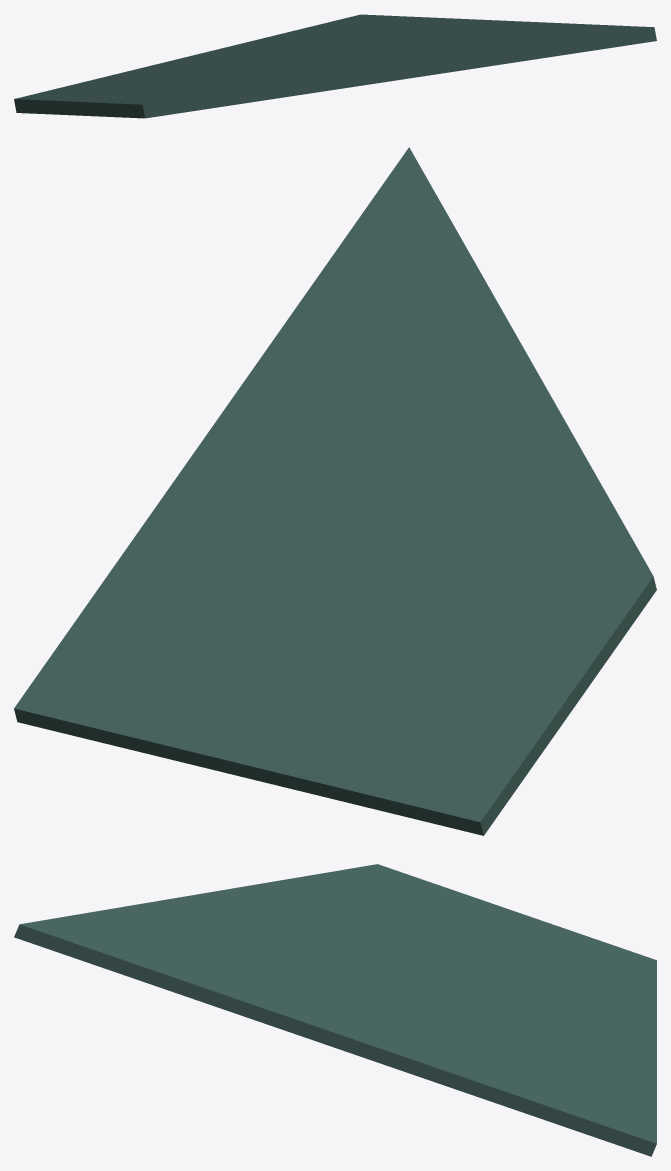
The picture shows the model from 3 angles, top to bottom: view 1: azimuth 30°, elevation 25°; view 2: azimuth 150°, elevation 25°; view 3: azimuth 270°, elevation 25°; orthographic projection. The views are drawn at different scales.
Parts seen in each view (by area): view 1: A-ROOF-3-1; view 2: A-ROOF-3-1; view 3: A-ROOF-3-1.
Boxes of the visible parts, box(x1,y1,x2,y2) form: A-ROOF-3-1: box(14, 14, 656, 118); A-ROOF-3-1: box(14, 147, 656, 835); A-ROOF-3-1: box(14, 864, 656, 1156).
Size of the model in its own units: 2.97 by 1.75 by 4.39.
